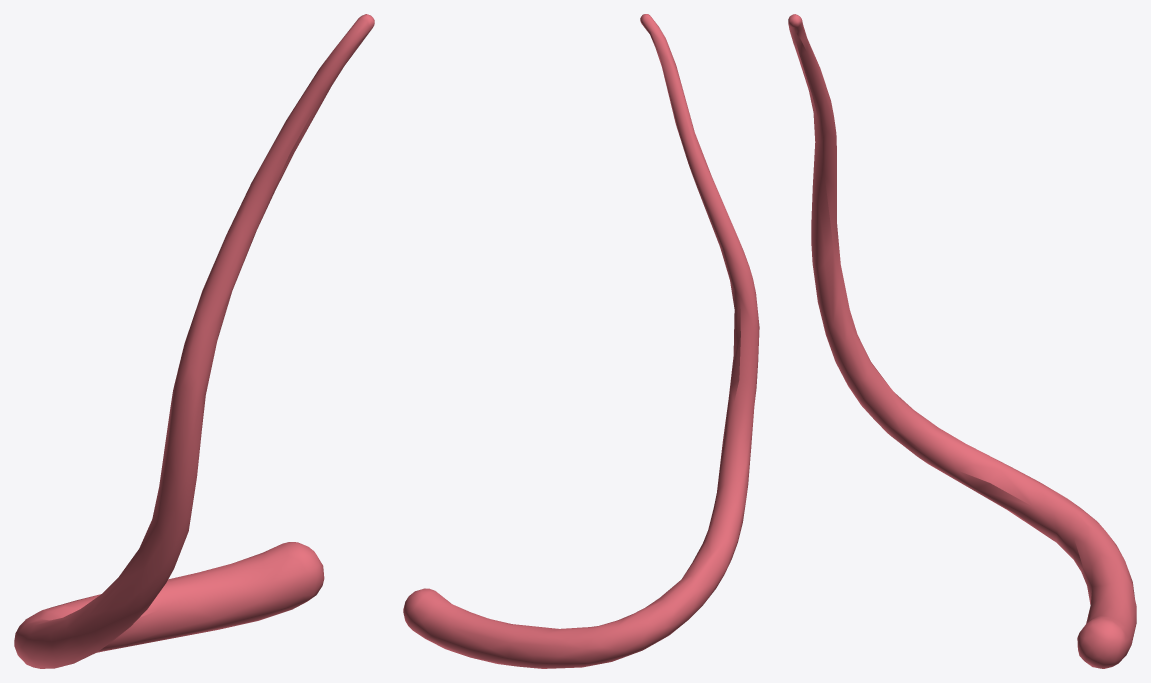
File: fma50480_fj5040.glb
3 renders of one model, left to right at view 1: azimuth 30°, elevation 25°; view 2: azimuth 150°, elevation 25°; view 3: azimuth 270°, elevation 25°, orthographic. The views are drawn at different scales.
Parts seen in each view (by area): view 1: FMA50480_FJ5040; view 2: FMA50480_FJ5040; view 3: FMA50480_FJ5040.
Part boxes in pixels (<box>): FMA50480_FJ5040: <box>14,14,374,668</box>; FMA50480_FJ5040: <box>403,14,759,668</box>; FMA50480_FJ5040: <box>788,14,1136,668</box>.
Bounding box in the file's own units: 0.0114 × 0.0233 × 0.012.
